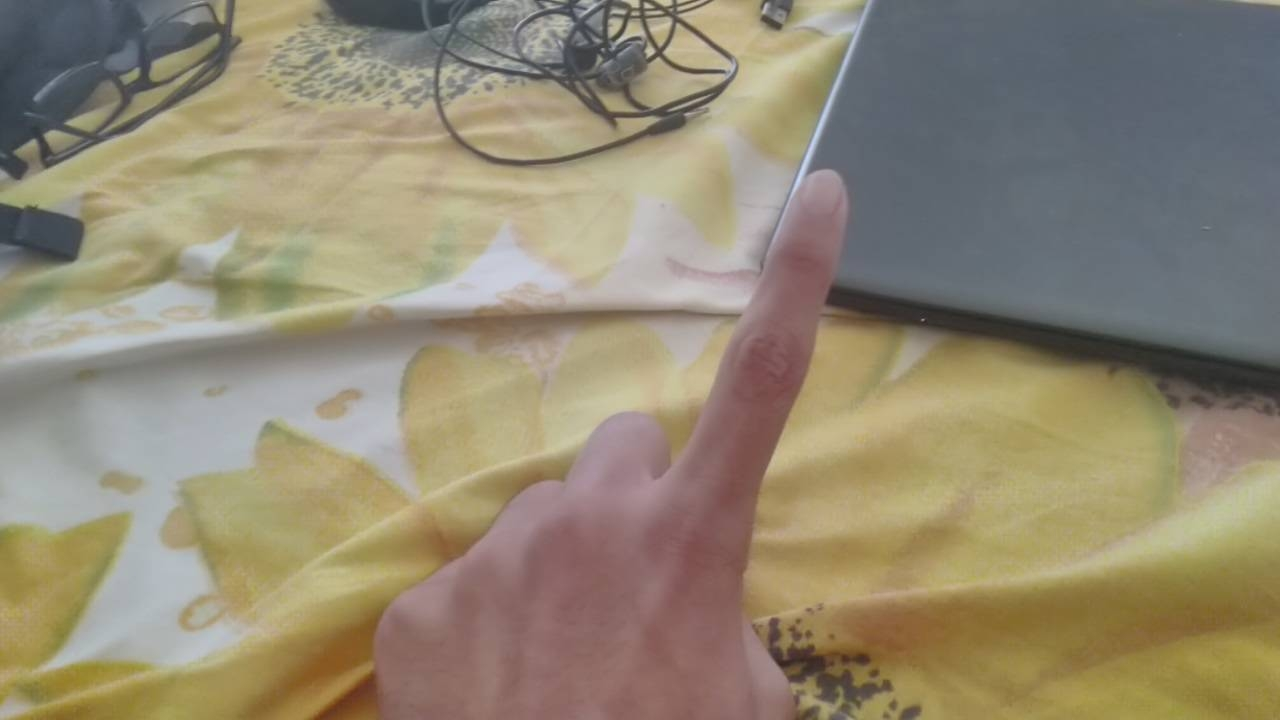fingertip: (796, 166, 862, 220)
